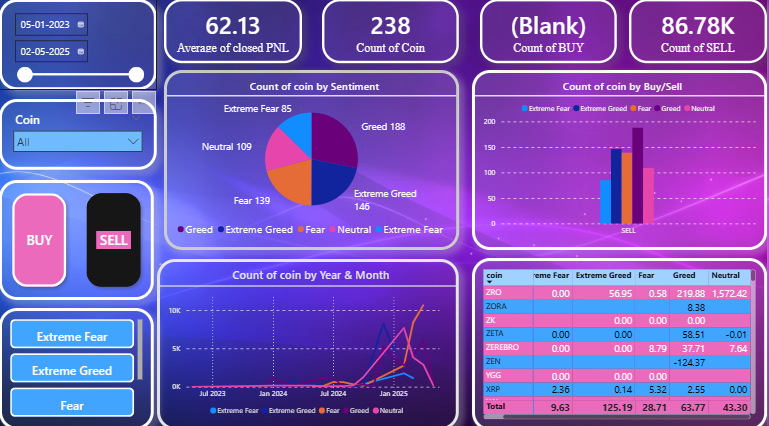

What the dashboard file says about the page in this screenshot:
{"tool":"powerbi","page":{"name":"Page 1","canvas":[1280,720],"ordinal":0},"visuals":[{"type":"pieChart","fields":{"Category":["clean_trader_sentiment (1).classification"],"Y":["Count(clean_trader_sentiment (1).coin)"]},"box":[275,118.3,491.7,300],"z":3},{"type":"lineChart","fields":{"Series":["clean_trader_sentiment (1).classification"],"Y":["CountNonNull(clean_trader_sentiment (1).coin)"],"Category":["clean_trader_sentiment (1).date.Variation.Date Hierarchy.Year","clean_trader_sentiment (1).date.Variation.Date Hierarchy.Month"]},"box":[263.3,433.3,503.3,285],"z":5},{"type":"clusteredColumnChart","fields":{"Category":["clean_trader_sentiment (1).side"],"Series":["clean_trader_sentiment (1).classification"],"Y":["Count(clean_trader_sentiment (1).coin)"]},"box":[788.3,118.3,491.7,300],"z":6},{"type":"pivotTable","fields":{"Rows":["clean_trader_sentiment (1).coin"],"Columns":["clean_trader_sentiment (1).classification"],"Values":["Avg(clean_trader_sentiment (1).closed pnl)"]},"box":[788.3,431.7,491.7,288.3],"z":7},{"type":"slicer","fields":{"Values":["clean_trader_sentiment (1).date"]},"box":[0,0,263.3,151.7],"z":8},{"type":"slicer","fields":{"Values":["clean_trader_sentiment (1).coin"]},"box":[0,166.7,263.3,118.3],"z":9},{"type":"advancedSlicerVisual","fields":{"Values":["clean_trader_sentiment (1).side"]},"box":[0,301.7,258.3,200],"z":10},{"type":"advancedSlicerVisual","fields":{"Values":["clean_trader_sentiment (1).classification"]},"box":[0,515,258.3,203.3],"z":11},{"type":"card","title":"yum","fields":{"Values":["Avg(clean_trader_sentiment (1).closed pnl)"]},"box":[275,0,230,106.7],"z":12},{"type":"card","title":"yum","fields":{"Values":["Count(clean_trader_sentiment (1).coin)"]},"box":[538.3,0,228.3,106.7],"z":13},{"type":"card","title":"yum","fields":{"Values":["CountNonNull(clean_trader_sentiment (1).side)"]},"box":[801.7,0,228.3,106.7],"z":14},{"type":"card","title":"yum","fields":{"Values":["CountNonNull(clean_trader_sentiment (1).side)"]},"box":[1050,0,230,106.7],"z":15}]}

Visuals, with their boxes in screenshot pixels (x1, y1, x2, y2), scaled from the page's 1280x720 canvas onto the 769x426 screenshot:
pieChart - clean_trader_sentiment (1).classification x Count(clean_trader_sentiment (1).coin): bbox(165, 70, 461, 247)
lineChart - clean_trader_sentiment (1).classification x CountNonNull(clean_trader_sentiment (1).coin): bbox(158, 256, 461, 425)
clusteredColumnChart - clean_trader_sentiment (1).side x clean_trader_sentiment (1).classification: bbox(474, 70, 768, 247)
pivotTable - clean_trader_sentiment (1).coin x clean_trader_sentiment (1).classification: bbox(474, 255, 768, 425)
slicer - clean_trader_sentiment (1).date: bbox(0, 0, 158, 90)
slicer - clean_trader_sentiment (1).coin: bbox(0, 99, 158, 169)
advancedSlicerVisual - clean_trader_sentiment (1).side: bbox(0, 179, 155, 297)
advancedSlicerVisual - clean_trader_sentiment (1).classification: bbox(0, 305, 155, 425)
"yum" card: bbox(165, 0, 303, 63)
"yum" card: bbox(323, 0, 461, 63)
"yum" card: bbox(482, 0, 619, 63)
"yum" card: bbox(631, 0, 768, 63)
